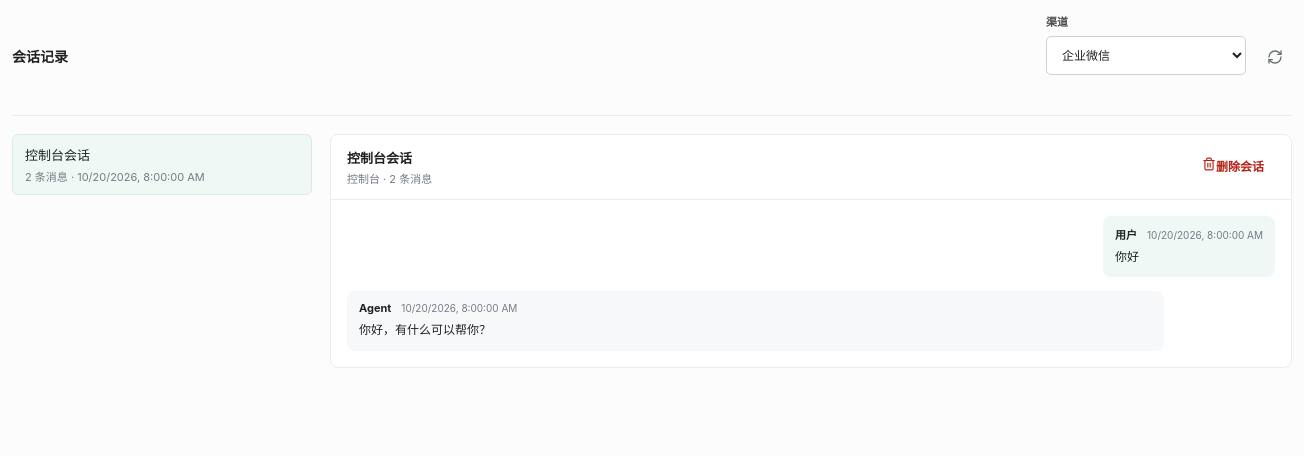
Test: Application conversations › filters by WeCom and keeps the mirrored conversation read-only
Select "企业微信" in the dropdown with id "conversation-channel": (1146, 56) [1046, 36, 1246, 75]
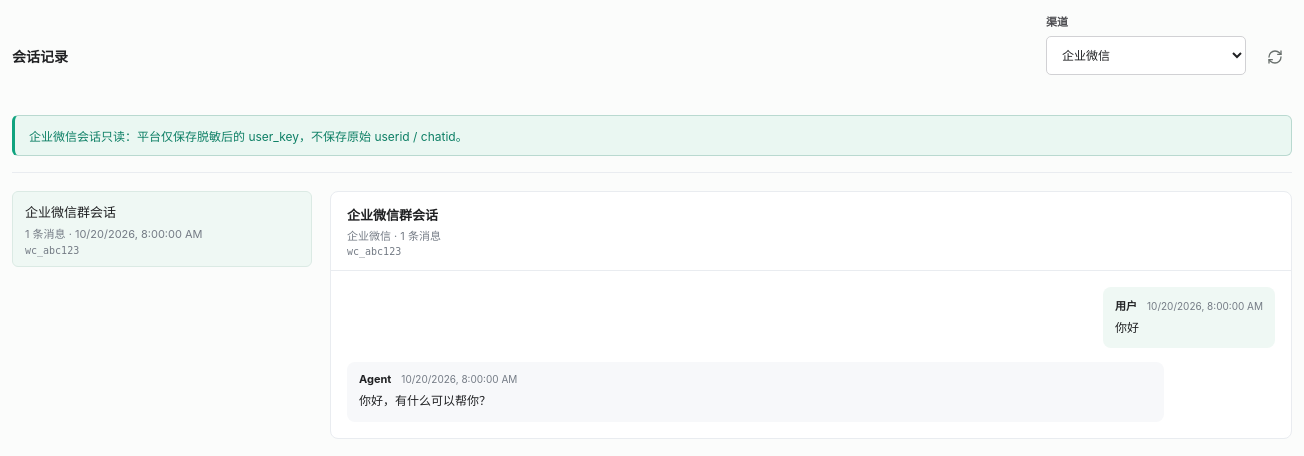
Expected: the text "企业微信群会话" is shown, [25, 202, 116, 221]
Expected: the text "wc_abc123" is shown, [25, 245, 79, 256]
Expected: the text "企业微信会话只读" is shown, [29, 129, 468, 144]
